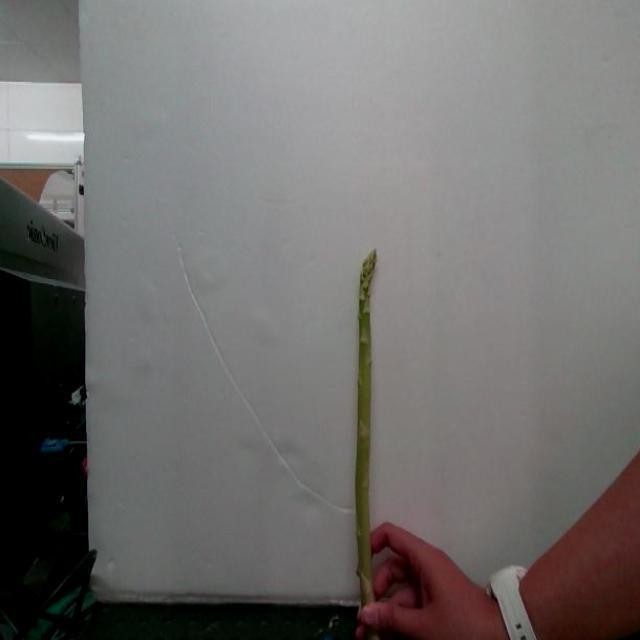aspargus: (356, 254, 378, 607)
